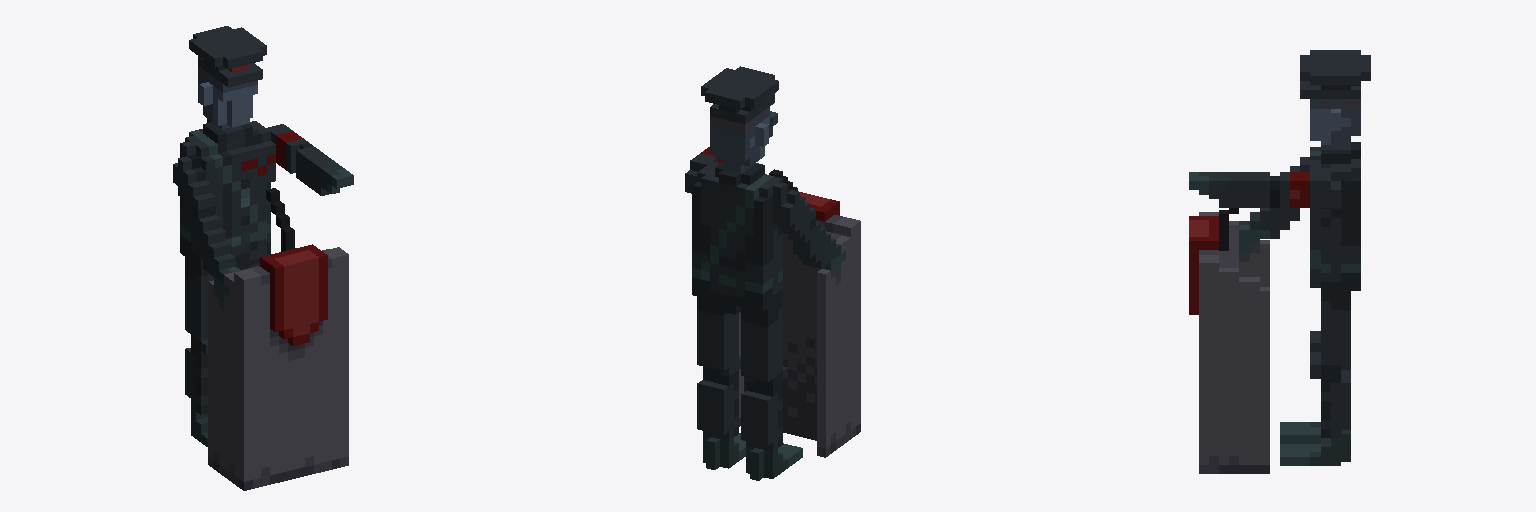
3 renders of one model, left to right at view 1: azimuth 30°, elevation 25°; view 2: azimuth 150°, elevation 25°; view 3: azimuth 270°, elevation 25°, orthographic.
Visible parts, largest first — view 1: object 1; view 2: object 1; view 3: object 1.
Boxes of the visible parts, x1=… form: object 1: x1=173, y1=26, x2=353, y2=490; object 1: x1=685, y1=66, x2=860, y2=480; object 1: x1=1189, y1=50, x2=1370, y2=473.
Bounding box in the file's own units: 1.2 × 4.2 × 1.8.
1 materials, 1 textured.